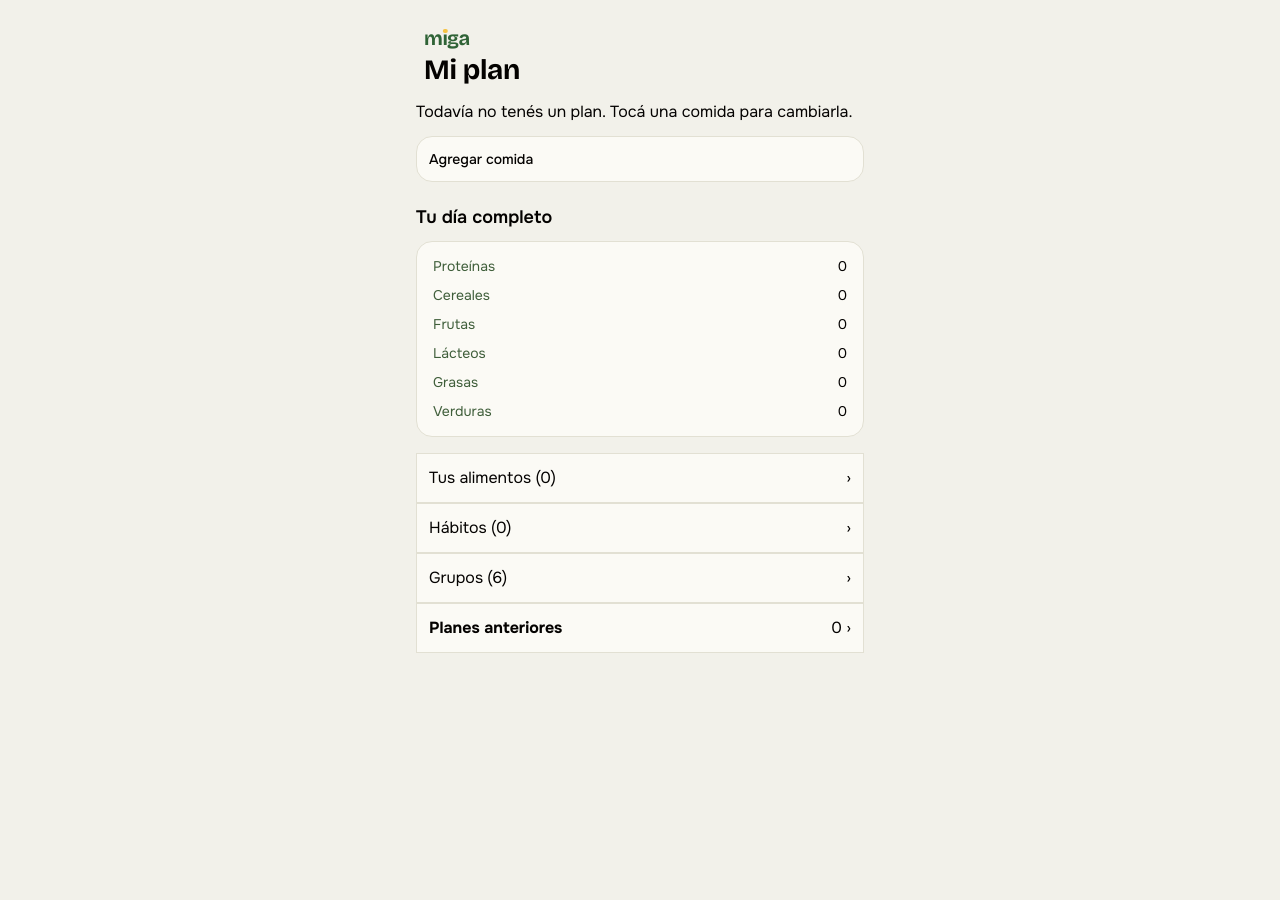
Scenario: sin plan permite agregar una comida
Step 1. Click the button "Agregar comida" → x=481, y=158, box [417, 137, 863, 181]
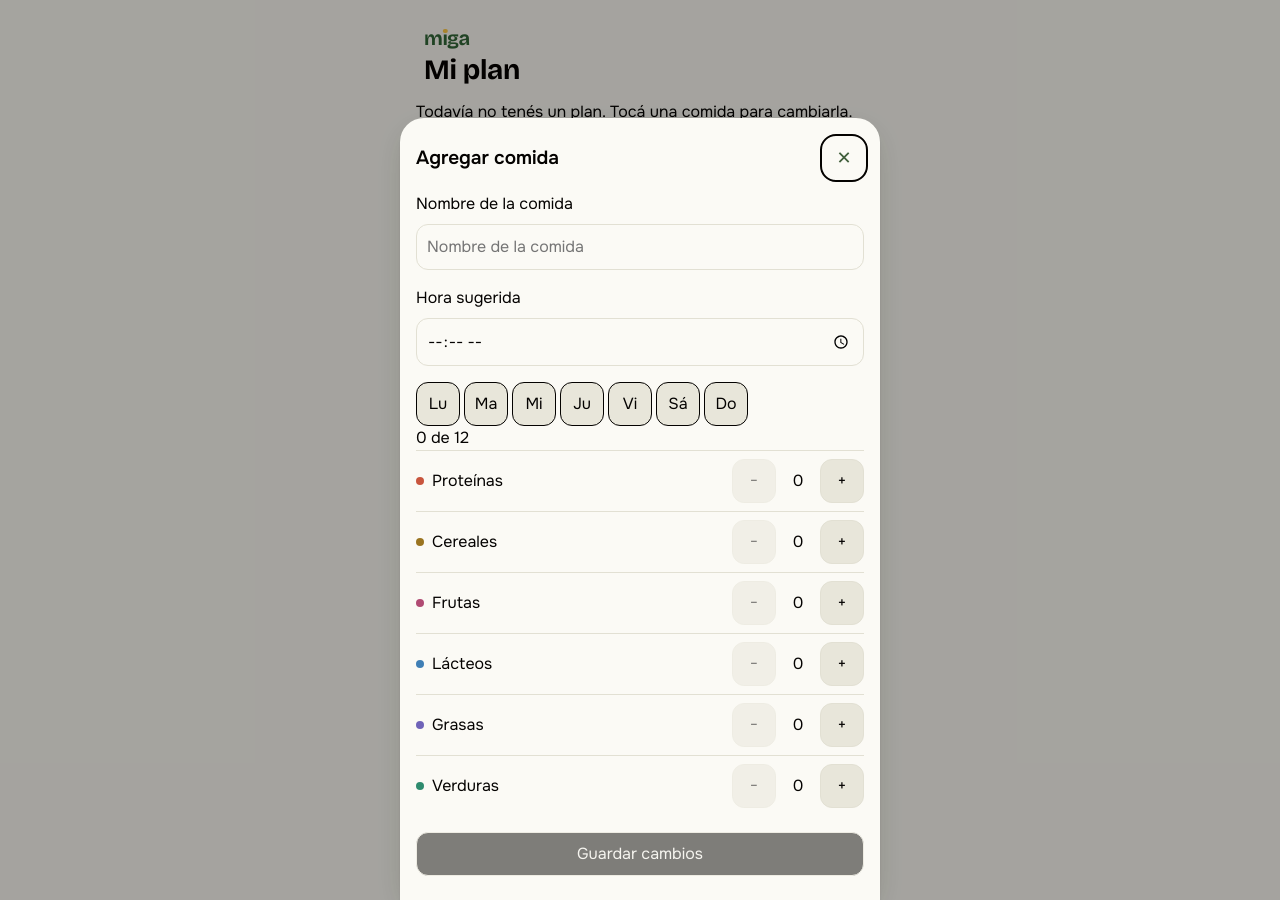
Check: the dialog is shown, box [400, 118, 880, 899]
